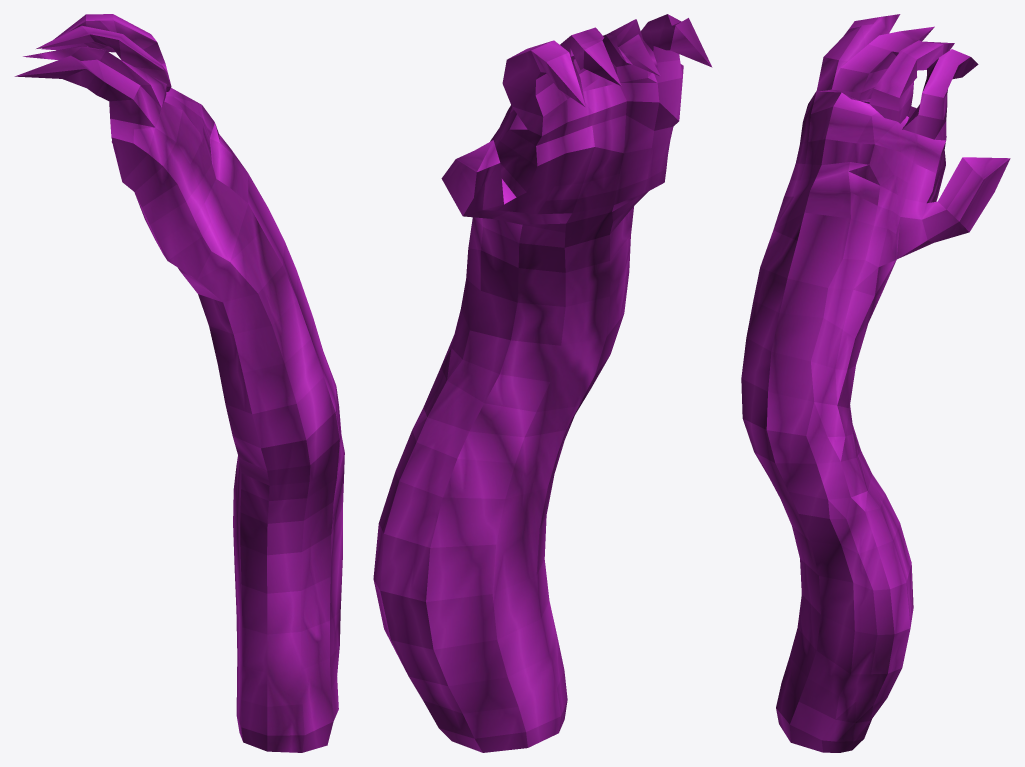
The model's file is ArmAddict.fbx.
3 views of the same model, side by side, from view 1: azimuth 30°, elevation 25°; view 2: azimuth 150°, elevation 25°; view 3: azimuth 270°, elevation 25° (orthographic). The views are drawn at different scales.
Visible parts, largest first — view 1: Cylinder; view 2: Cylinder; view 3: Cylinder.
Boxes of the visible parts, x1=… form: Cylinder: x1=14, y1=14, x2=344, y2=752; Cylinder: x1=373, y1=14, x2=712, y2=752; Cylinder: x1=741, y1=14, x2=1010, y2=752.
Size of the model in its own units: 749 by 1630 by 623.
Materials: 1 (1 with a texture image).
